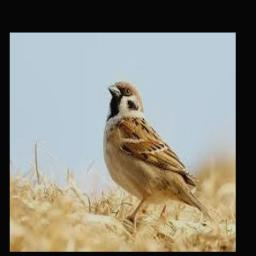Sparrow: (104, 82, 214, 223)
